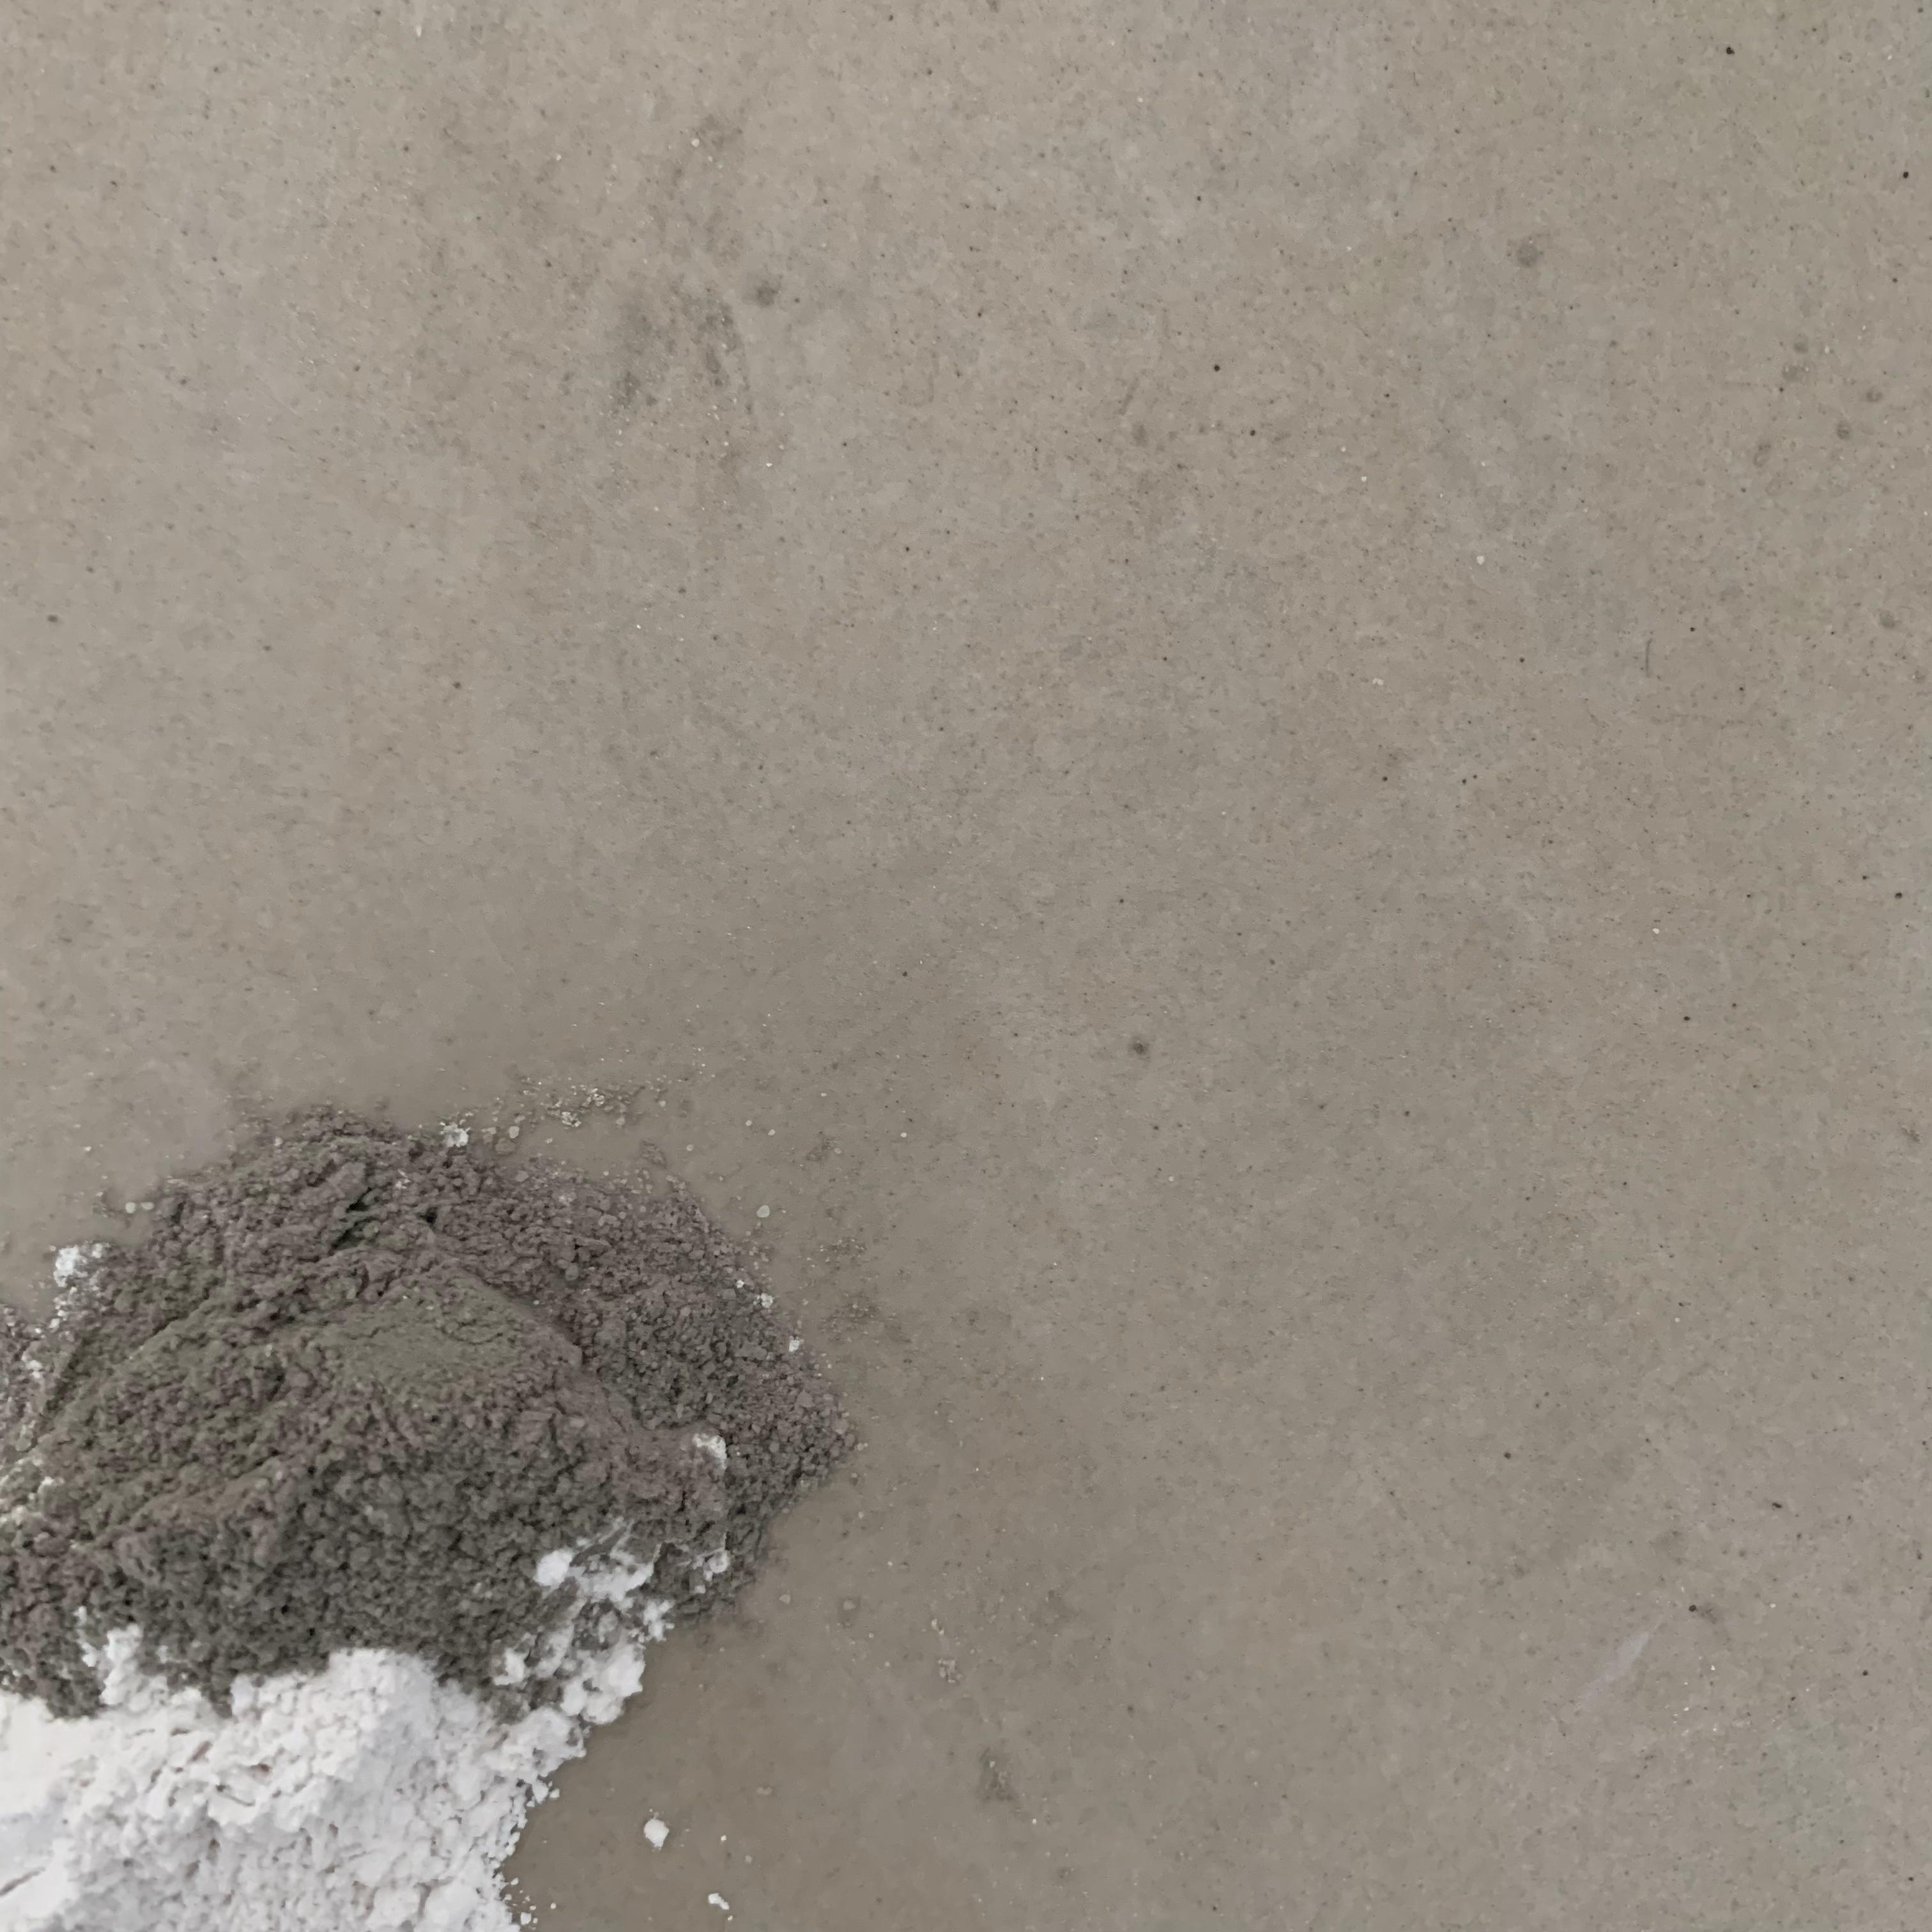ash pile: (2, 1081, 870, 1932)
